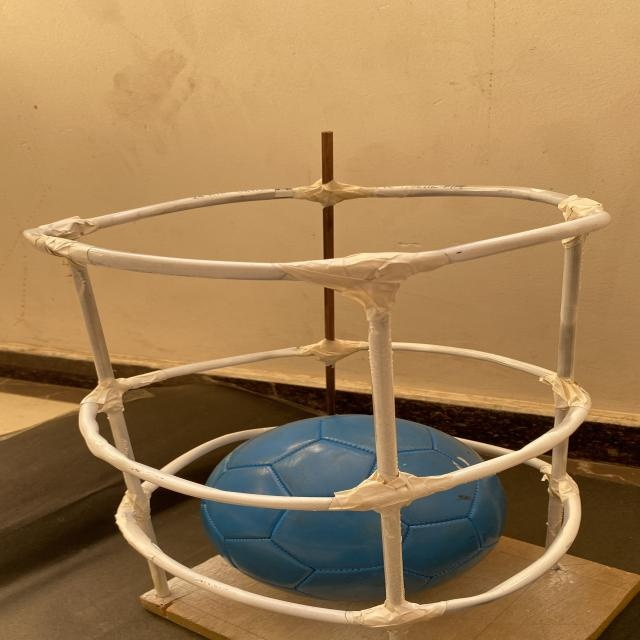blue_ball: (206, 414, 503, 592)
silo: (30, 112, 595, 640)
